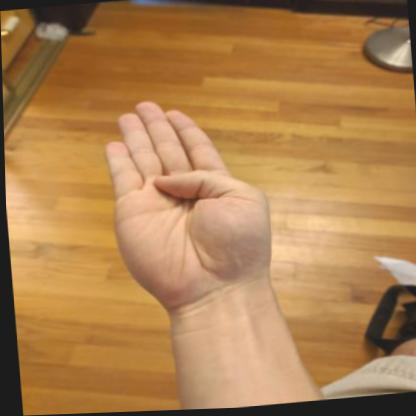B: (94, 86, 285, 330)
